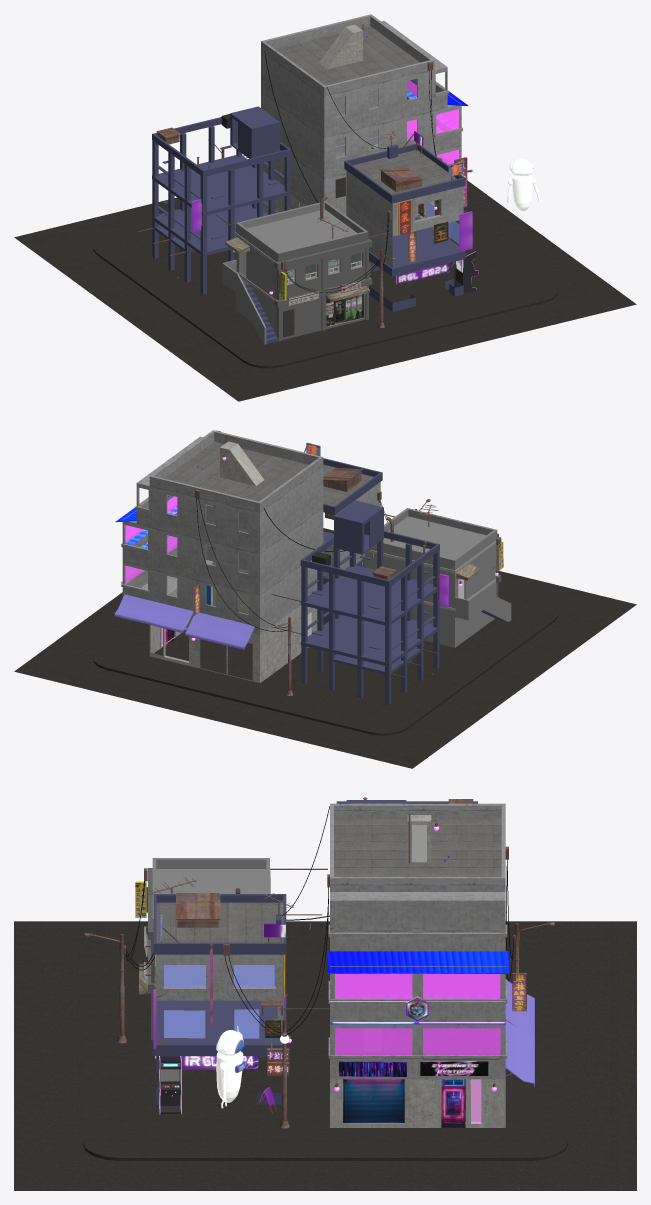
The picture shows the model from 3 angles, top to bottom: view 1: azimuth 30°, elevation 25°; view 2: azimuth 150°, elevation 25°; view 3: azimuth 270°, elevation 25°; orthographic projection. The views are drawn at different scales.
Parts seen in each view (by area): view 1: bawah, Object_39.001, bawah.001, Object_14, Object_46, Object_42, Object_10, Object_11, Object_25, Object_45, Object_16, Object_36 (+6 smaller); view 2: bawah, bawah.001, Object_14, Object_39, Object_39.001, Object_46, Object_45, Object_10, Object_38, Object_25, Object_11, Object_49; view 3: bawah, bawah.001, Object_39, Object_10, Object_11, Object_25, Object_45, Object_46, Cube, Cube.009, Object_38, Cube.004 (+21 smaller).
Part boxes in pixels (bbox=[...]): bawah: bbox=[14, 114, 636, 401]; Object_39.001: bbox=[261, 16, 463, 267]; bawah.001: bbox=[93, 178, 557, 368]; Object_14: bbox=[152, 106, 463, 343]; Object_46: bbox=[222, 201, 367, 344]; Object_42: bbox=[274, 232, 372, 341]; Object_10: bbox=[275, 26, 456, 194]; Object_11: bbox=[344, 143, 465, 276]; Object_25: bbox=[137, 24, 472, 327]; Object_45: bbox=[235, 24, 434, 301]; Object_16: bbox=[280, 252, 363, 326]; Object_36: bbox=[397, 157, 467, 262]; bawah: bbox=[14, 528, 636, 768]; bawah.001: bbox=[93, 566, 557, 735]; Object_14: bbox=[300, 500, 506, 704]; Object_39: bbox=[121, 430, 333, 634]; Object_39.001: bbox=[122, 432, 380, 634]; Object_46: bbox=[365, 508, 511, 647]; Object_45: bbox=[149, 441, 496, 683]; Object_10: bbox=[164, 441, 373, 505]; Object_38: bbox=[114, 594, 254, 649]; Object_25: bbox=[113, 430, 499, 695]; Object_11: bbox=[323, 458, 382, 584]; Object_49: bbox=[196, 498, 387, 631]; bawah: bbox=[14, 921, 636, 1190]; bawah.001: bbox=[83, 948, 567, 1160]; Object_39: bbox=[156, 803, 507, 1078]; Object_10: bbox=[156, 819, 501, 942]; Object_11: bbox=[153, 894, 286, 1055]; Object_25: bbox=[84, 797, 554, 1128]; Object_45: bbox=[270, 815, 505, 1127]; Object_46: bbox=[152, 858, 269, 930]; Cube: bbox=[327, 951, 508, 973]; Cube.009: bbox=[343, 1079, 404, 1123]; Object_38: bbox=[505, 979, 534, 1086]; Cube.004: bbox=[423, 1028, 500, 1055].
Bounding box in the file's own units: 58.16 × 29.12 × 56.77.
68 materials, 18 textured.
